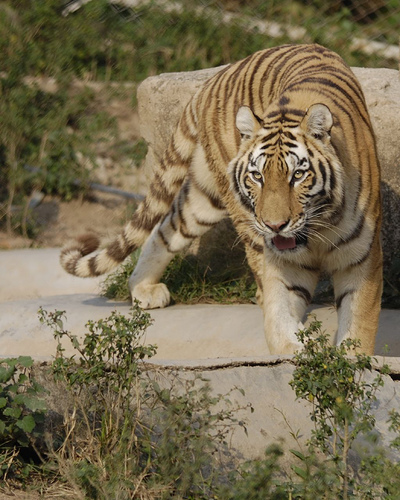Tigre: (140, 55, 388, 355)
